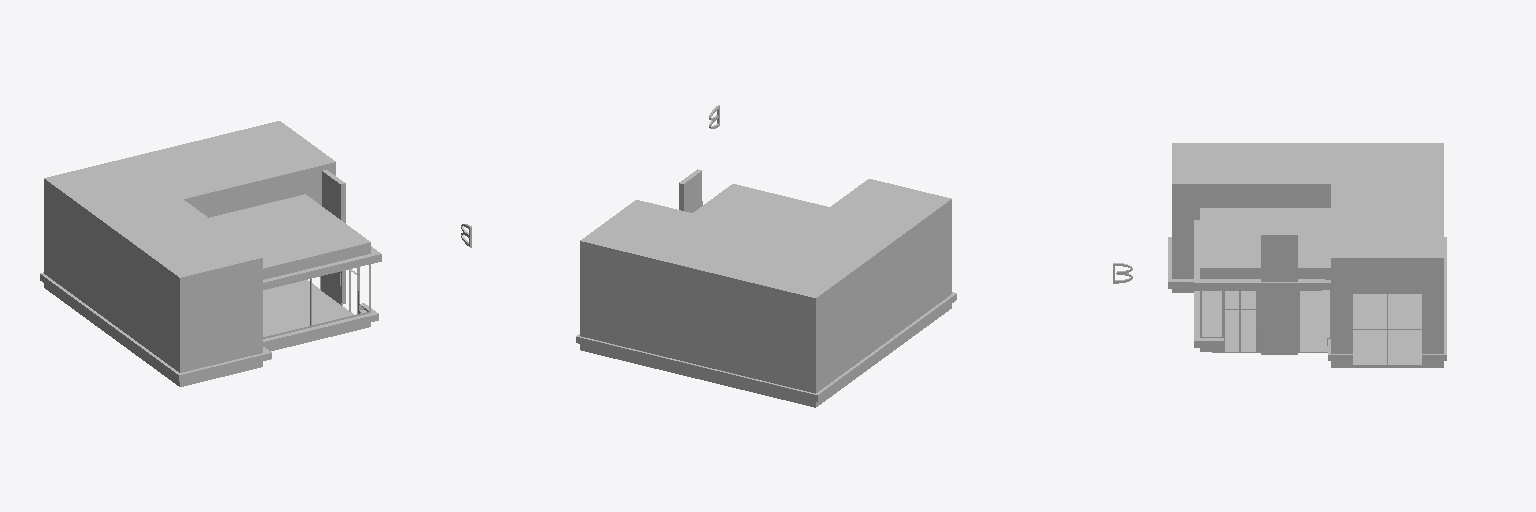
3 views of the same model, side by side, from view 1: azimuth 30°, elevation 25°; view 2: azimuth 150°, elevation 25°; view 3: azimuth 270°, elevation 25° (orthographic).
Parts seen in each view (by area): view 1: blackbuild, pollbuild, whitebuild, redbuild, framebuild; view 2: blackbuild, whitebuild, pollbuild, redbuild; view 3: blackbuild, pollbuild, woodbuild, redbuild, whitebuild, framebuild.
Part boxes in pixels (x1,y1,x2,y2): blackbuild: (44, 121, 370, 372); pollbuild: (44, 271, 370, 386); whitebuild: (40, 246, 381, 381); redbuild: (322, 170, 345, 303); framebuild: (263, 264, 370, 338); blackbuild: (580, 179, 951, 393); whitebuild: (576, 292, 956, 401); pollbuild: (580, 304, 951, 407); redbuild: (679, 169, 702, 212); blackbuild: (1172, 143, 1443, 353); pollbuild: (1172, 289, 1443, 367); woodbuild: (1177, 184, 1421, 293); redbuild: (1261, 233, 1297, 354); whitebuild: (1168, 220, 1446, 360); framebuild: (1200, 290, 1421, 367).
Bounding box in the file's own units: 14.7 × 6.34 × 15.97.